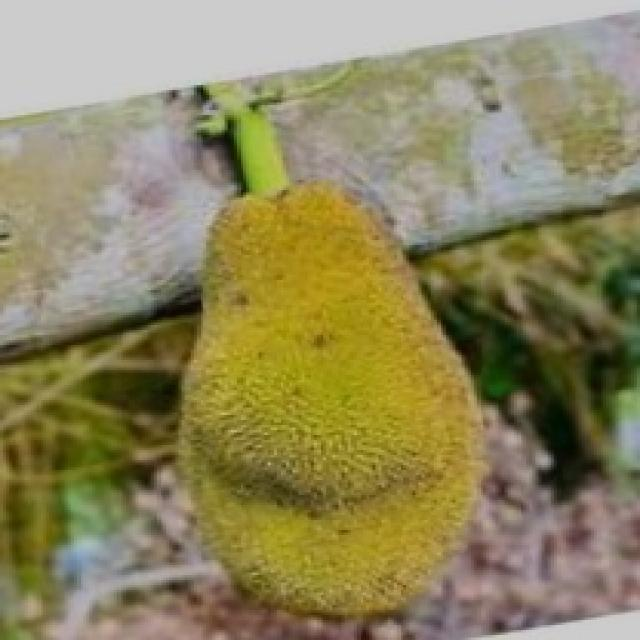Fruit: (142, 242, 538, 640)
